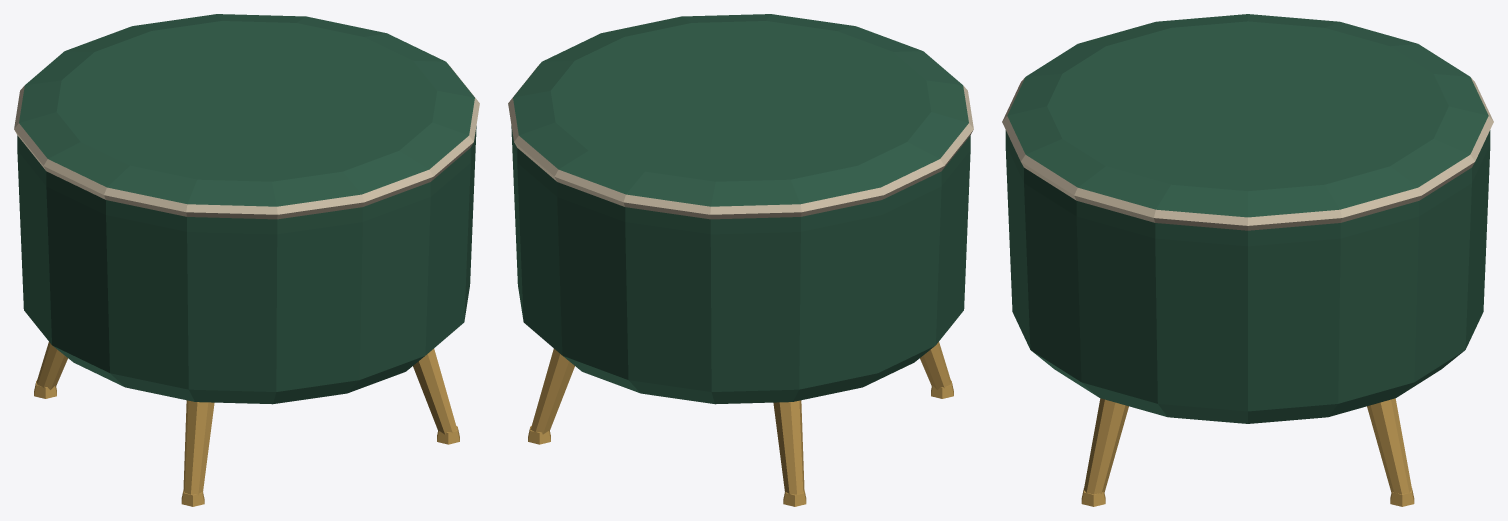
File: FN_Stool_Ottoman.glb
3 views of the same model, side by side, from view 1: azimuth 30°, elevation 25°; view 2: azimuth 150°, elevation 25°; view 3: azimuth 270°, elevation 25° (orthographic). The views are drawn at different scales.
Parts seen in each view (by area): view 1: FN_Stool_Ottoman; view 2: FN_Stool_Ottoman; view 3: FN_Stool_Ottoman.
Part boxes in pixels (x1,y1,x2,y2): FN_Stool_Ottoman: (14,14,479,506); FN_Stool_Ottoman: (508,14,973,506); FN_Stool_Ottoman: (1002,14,1493,506).
Size of the model in its own units: 0.568 by 0.42 by 0.568.
1 material, 1 textured.
